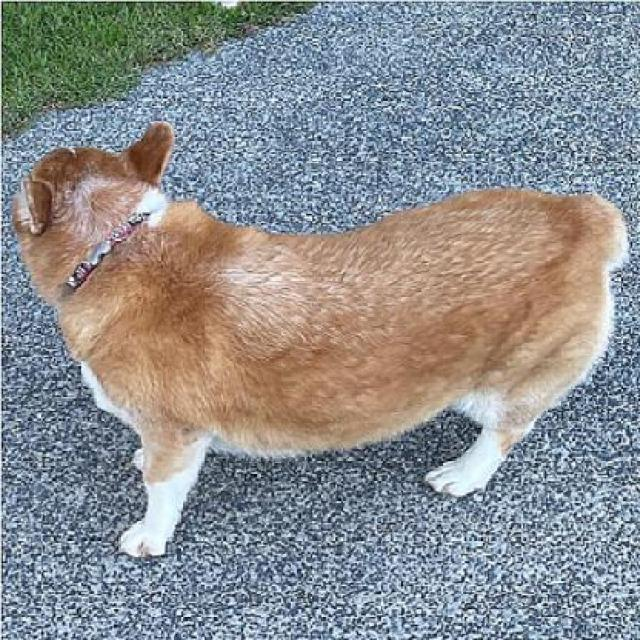Dog: (12, 119, 632, 563)
